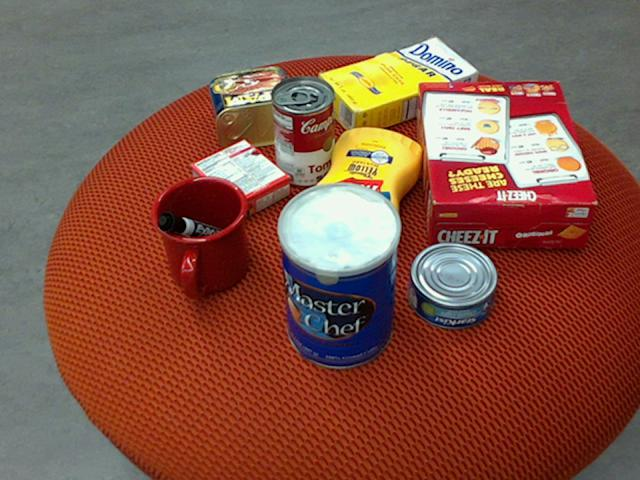cracker_box: (416, 80, 598, 246)
gelatin_box: (189, 137, 289, 223)
large_marker: (156, 212, 237, 249)
master_chef_can: (275, 184, 398, 370)
mug: (148, 176, 249, 299)
mustard_bottle: (305, 127, 423, 272)
potted_meat_can: (210, 65, 305, 149)
sugar_box: (317, 36, 479, 136)
tomato_soup_can: (271, 74, 335, 185)
tuna_fish_can: (408, 241, 499, 330)
